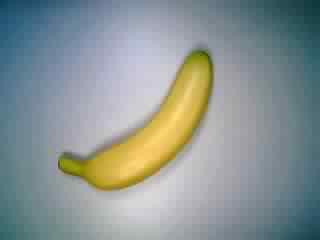banana: (55, 50, 213, 191)
